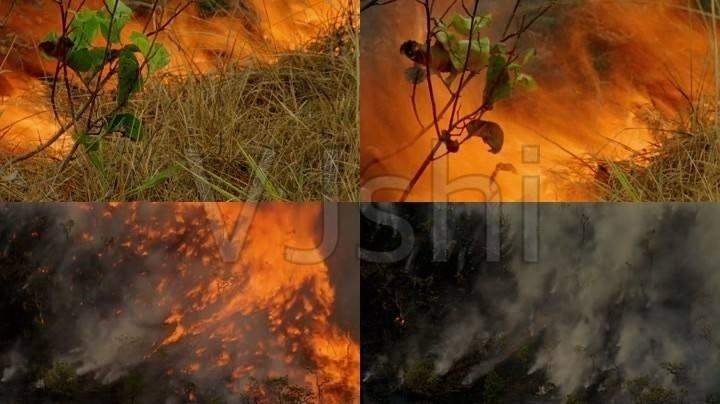fire: (359, 0, 718, 202), (0, 0, 337, 155), (131, 202, 361, 404)
